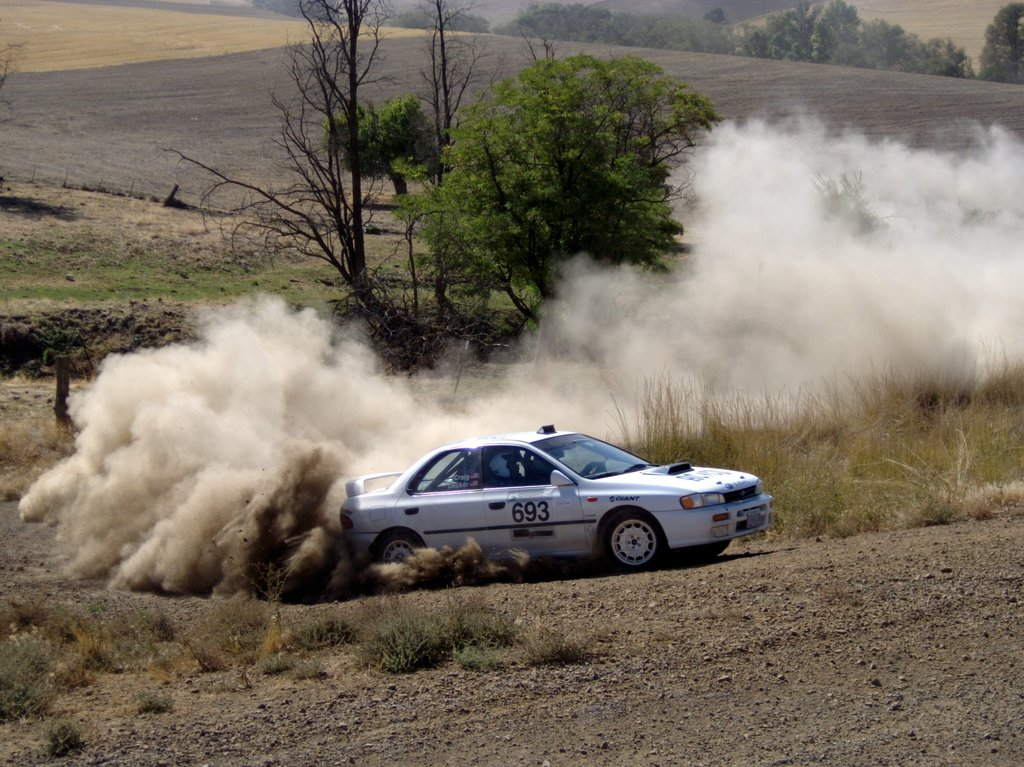Car: (330, 427, 773, 581)
